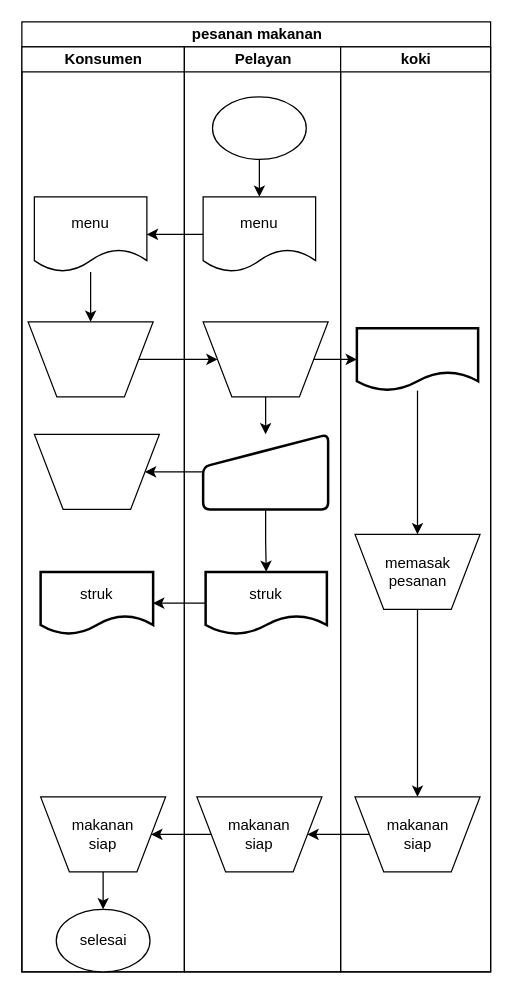
Image size: 513x994. Some labels were removed from this diagram. Here are the shapes that lost their labels. From the top down, the centre of each, then its label:
At point (258, 127): "mulai".
At point (90, 359): "memesan makanan".
At point (265, 359): "mencatat pesanan".
At point (417, 358): "catatan pesanan".
At point (96, 471): "membayar pesanan".
At point (265, 471): "menghitung total harga".
